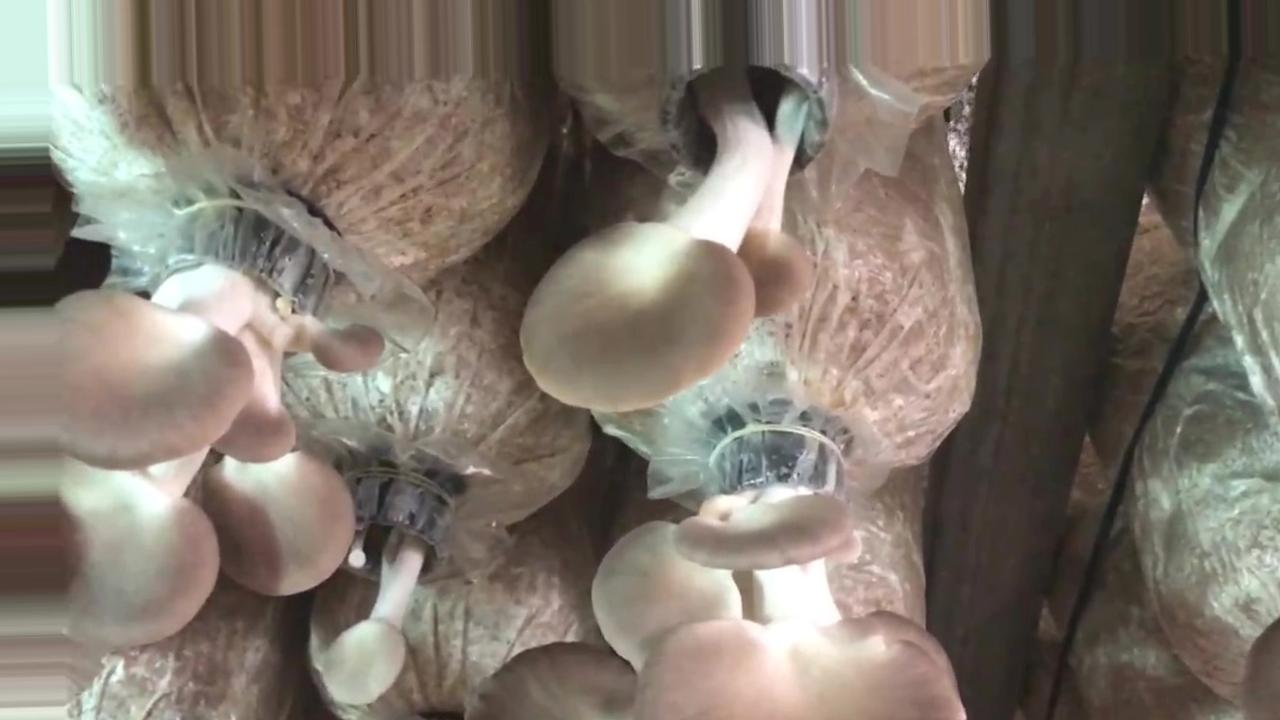nam: (1, 200, 384, 648), (472, 422, 961, 720), (523, 52, 838, 413), (326, 464, 458, 703)
